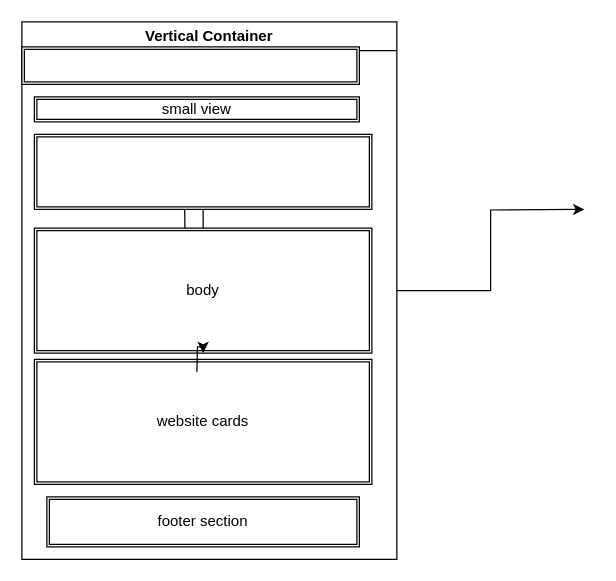
This 616x581 diagram has some shape labels left out. The shapes that lost their labels are listed below. From the top down, each one's centre as x and y in pixels, then its label:
At [190,65]: "site name".
At [202,171]: "Hero image".
